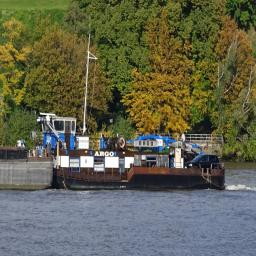tugboat: (27, 109, 231, 197)
